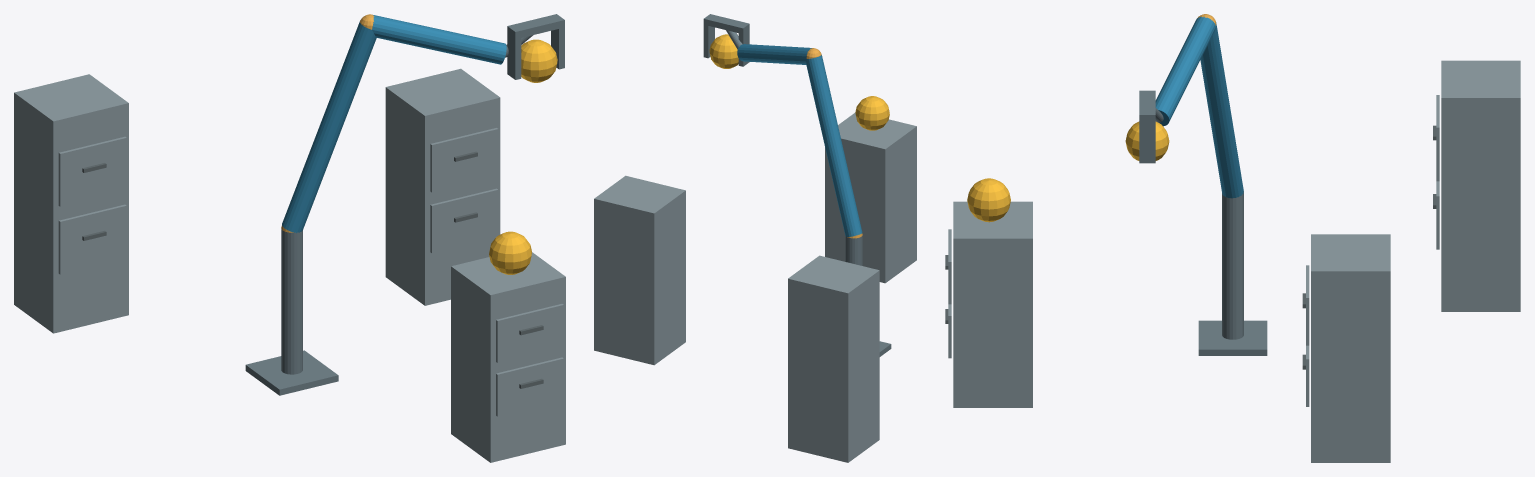
3 renders of one model, left to right at view 1: azimuth 30°, elevation 25°; view 2: azimuth 150°, elevation 25°; view 3: azimuth 270°, elevation 25°, orthographic. The views are drawn at different scales.
Visible parts, largest first — view 1: cabinet_3 body, cabinet_2 body, cabinet_1 body, moving link 1, cabinet_3 drawer front, cabinet_3 drawer front.001, cabinet_2 drawer front.001, cabinet_2 drawer front, fixed post, moving link 2, cabinet_1 drawer front, cabinet_1 drawer front.001 (+5 smaller); view 2: cabinet_3 body, cabinet_2 body, cabinet_1 body, moving link 1, moving link 2, released ball_1, ball ball_2, gripper bridge, fixed post; view 3: cabinet_3 body, cabinet_2 body, cabinet_1 body, moving link 1, fixed post, moving link 2, pedestal, released ball_1, ball ball_2, gripper finger 1.
Boxes of the visible parts, x1,y1,x2,y2 form: cabinet_3 body: (14, 74, 128, 333); cabinet_2 body: (385, 68, 500, 305); cabinet_1 body: (451, 252, 565, 462); moving link 1: (282, 21, 376, 233); cabinet_3 drawer front: (58, 204, 126, 274); cabinet_3 drawer front.001: (58, 136, 126, 206); cabinet_2 drawer front.001: (430, 128, 498, 192); cabinet_2 drawer front: (430, 188, 498, 253); fixed post: (281, 229, 302, 374); moving link 2: (372, 15, 506, 64); cabinet_1 drawer front: (496, 357, 563, 416); cabinet_1 drawer front.001: (496, 304, 563, 362); cabinet_3 body: (788, 255, 879, 462); cabinet_2 body: (594, 175, 685, 365); cabinet_1 body: (825, 113, 916, 283); moving link 1: (806, 55, 862, 236); moving link 2: (737, 44, 811, 64); released ball_1: (855, 96, 889, 130); ball ball_2: (709, 34, 738, 68); gripper bridge: (703, 14, 749, 34); fixed post: (845, 235, 862, 265); cabinet_3 body: (1441, 60, 1520, 311); cabinet_2 body: (1311, 234, 1390, 462); cabinet_1 body: (953, 201, 1032, 407); moving link 1: (1200, 22, 1243, 198); fixed post: (1222, 192, 1243, 339); moving link 2: (1155, 16, 1215, 126); pedestal: (1198, 320, 1267, 355); released ball_1: (967, 178, 1010, 222); ball ball_2: (1125, 121, 1169, 160); gripper finger 1: (1139, 122, 1155, 163).
Size of the model in its own units: 1.62 by 1.44 by 2.1.
